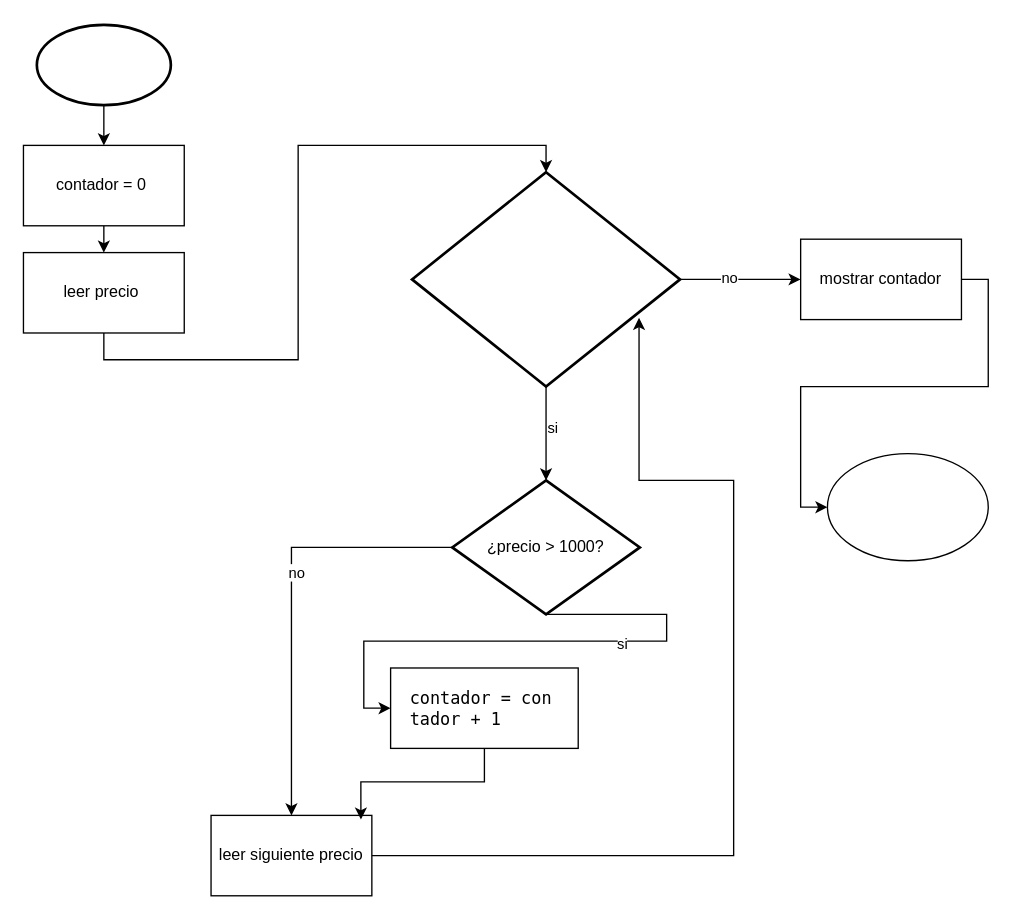
The diagram is 1022 pixels wide and 919 high, and some of its shapes have lost their labels. The shapes that lost their labels are listed below. From the top down, each one's centre as x and y in pixels, then its label:
At point 103,64: "inicio".
At point 545,278: "¿quedan precios?".
At point 907,506: "fin".
